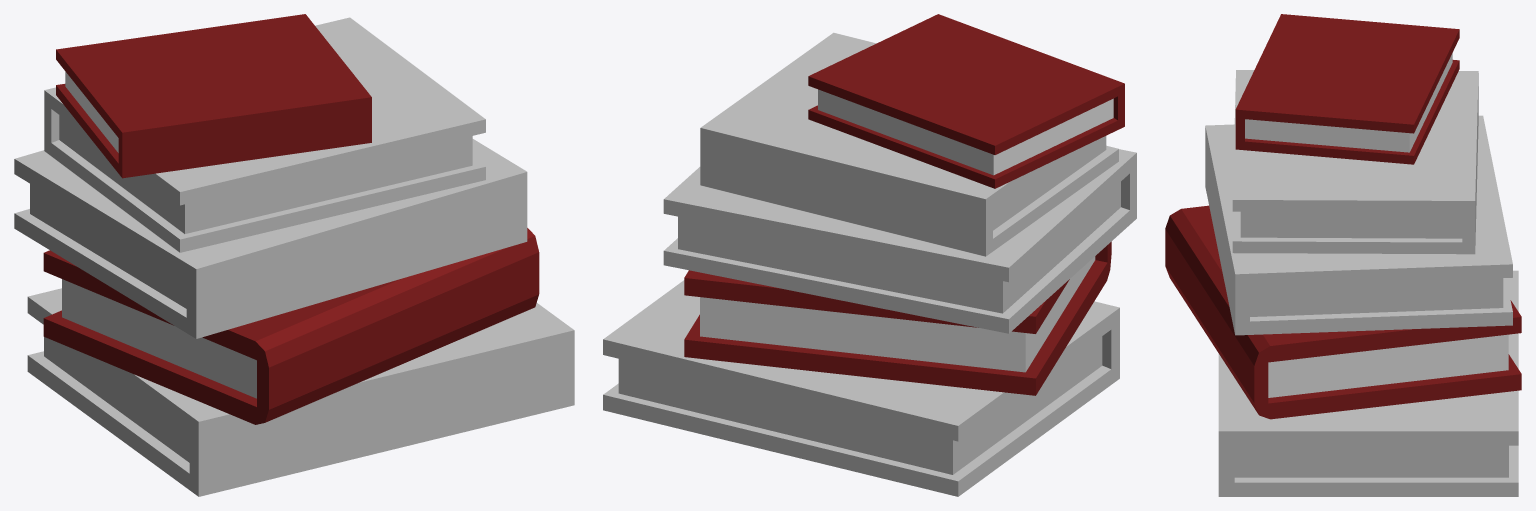
File: pile_of_books.fbx
3 views of the same model, side by side, from view 1: azimuth 30°, elevation 25°; view 2: azimuth 150°, elevation 25°; view 3: azimuth 270°, elevation 25° (orthographic). The views are drawn at different scales.
Visible parts, largest first — view 1: Book_3, Book_3_1, Book_1, Book_3_2, Book_3_3; view 2: Book_3, Book_3_1, Book_3_3, Book_3_2, Book_1; view 3: Book_3, Book_3_1, Book_1, Book_3_3, Book_3_2.
Boxes of the visible parts, x1,y1,x2,y2 form: Book_3: (27,288,574,496); Book_3_1: (14,139,527,338); Book_1: (43,228,539,424); Book_3_2: (56,14,371,178); Book_3_3: (44,17,485,252); Book_3: (603,280,1119,496); Book_3_1: (663,149,1136,333); Book_3_3: (700,32,1118,256); Book_3_2: (808,14,1124,188); Book_1: (684,241,1111,395); Book_3: (1218,270,1518,496); Book_3_1: (1205,115,1512,335); Book_1: (1165,205,1521,419); Book_3_3: (1232,70,1478,254); Book_3_2: (1235,14,1459,164).
Size of the model in its own units: 34.44 by 27.51 by 29.16.
